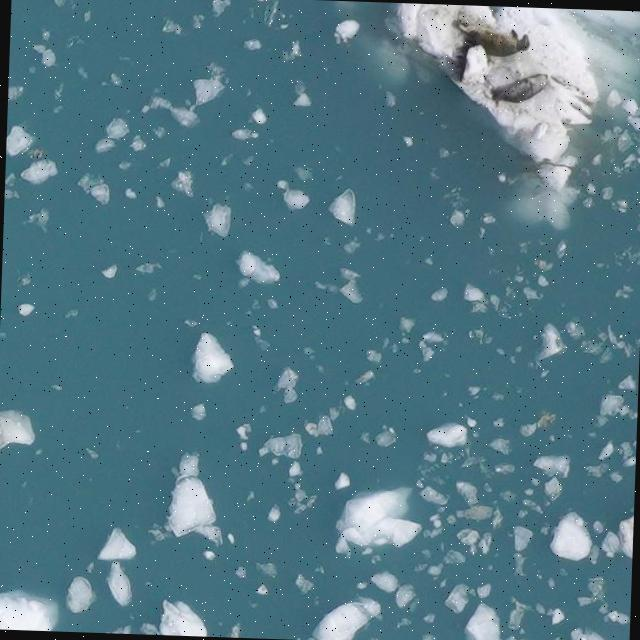seal: (451, 22, 532, 61), (487, 69, 555, 110)
